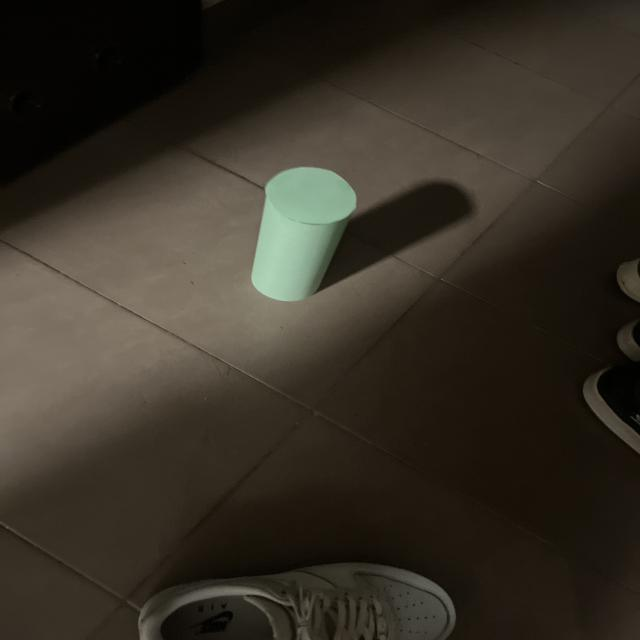meta: (251, 167, 356, 301)
